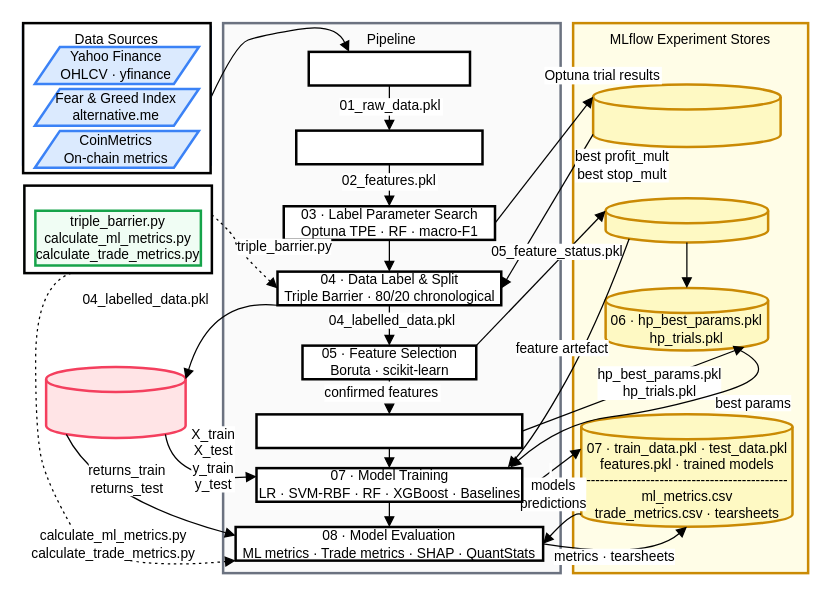
Image size: 830x595. Some labels were removed from this diagram. The box of each missing label's shape, as (x1, y1, x2, y2) in pixels:
01 · Data Download: (307, 50, 471, 86)
02 · Feature Engineering TA-Lib · pandas: (294, 129, 483, 165)
03 · Optuna trial results best profit_mult · stop_mult: (591, 82, 781, 148)
05 · feature_status.pkl: (604, 196, 769, 243)
06 · Hyperparameter Tuning Optuna TPE · TimeSeriesSplit + embargo: (255, 412, 523, 449)
Local Disk Cache data_cache/*.pkl: (44, 365, 186, 439)
src/: (22, 184, 212, 274)
